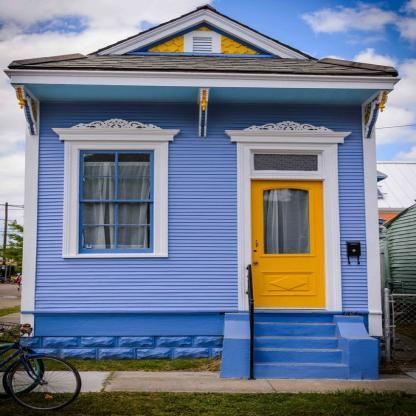Building Outline: (3, 3, 401, 380)
Cornice: (224, 120, 352, 144), (51, 118, 181, 141)
Dont: (0, 321, 82, 411)
Door: (251, 179, 326, 309)
Ground Floor: (36, 102, 368, 312)
Roof: (7, 3, 400, 77)
Window: (78, 151, 155, 254), (253, 154, 318, 171), (193, 37, 212, 52)
Window Outline: (62, 140, 169, 258)
